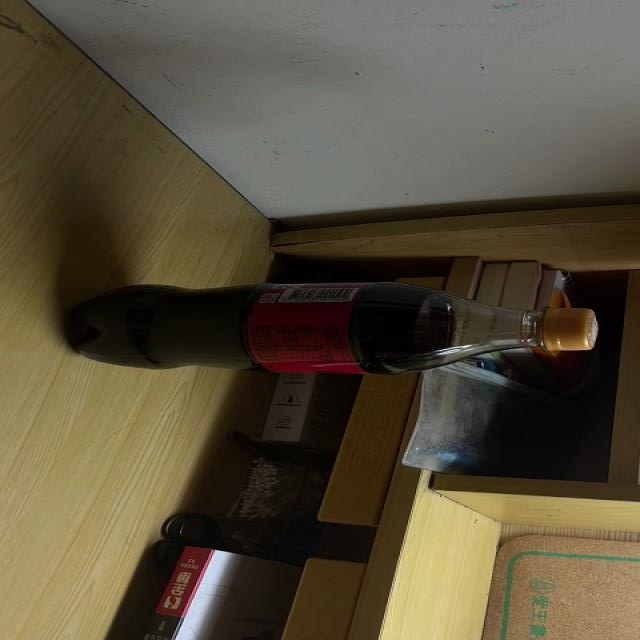Coca-Cola: (73, 279, 598, 372)
